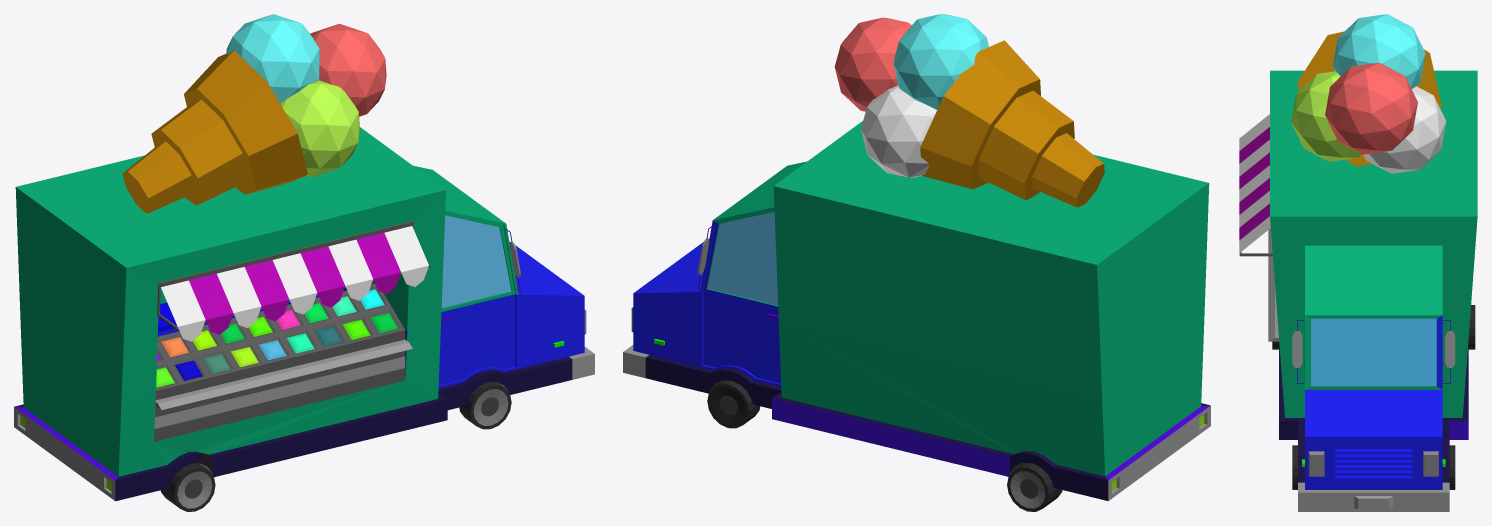
File: xebankem.fbx
3 views of the same model, side by side, from view 1: azimuth 30°, elevation 25°; view 2: azimuth 150°, elevation 25°; view 3: azimuth 270°, elevation 25° (orthographic). The views are drawn at different scales.
Parts seen in each view (by area): view 1: xebankem; view 2: xebankem; view 3: xebankem.
Part boxes in pixels (x1,y1,x2,y2): xebankem: [14, 14, 594, 511]; xebankem: [623, 14, 1210, 511]; xebankem: [1239, 14, 1477, 511].
Bounding box in the file's own units: 647 × 524 × 289.
1 material, 1 textured.
